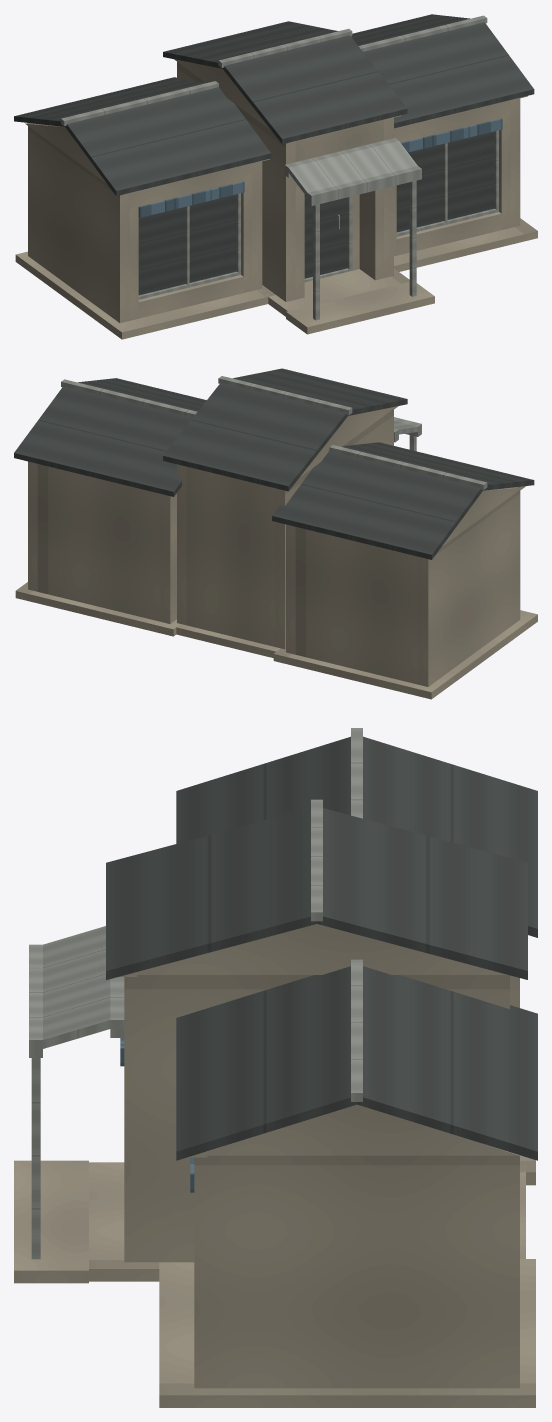
3 renders of one model, top to bottom at view 1: azimuth 30°, elevation 25°; view 2: azimuth 150°, elevation 25°; view 3: azimuth 270°, elevation 25°, orthographic. The views are drawn at different scales.
Visible parts, largest first — view 1: reykjavik; view 2: reykjavik; view 3: reykjavik.
Boxes of the visible parts, left/top/right/bottom form: reykjavik: left=14, top=14, right=537, bottom=339; reykjavik: left=14, top=368, right=537, bottom=699; reykjavik: left=14, top=728, right=537, bottom=1407.
Size of the model in its own units: 7.78 by 3.7 by 4.72.
1 material, 1 textured.
